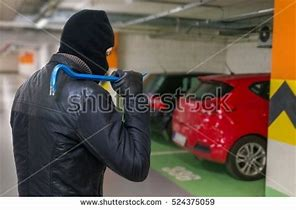crowbar: (47, 62, 148, 97)
